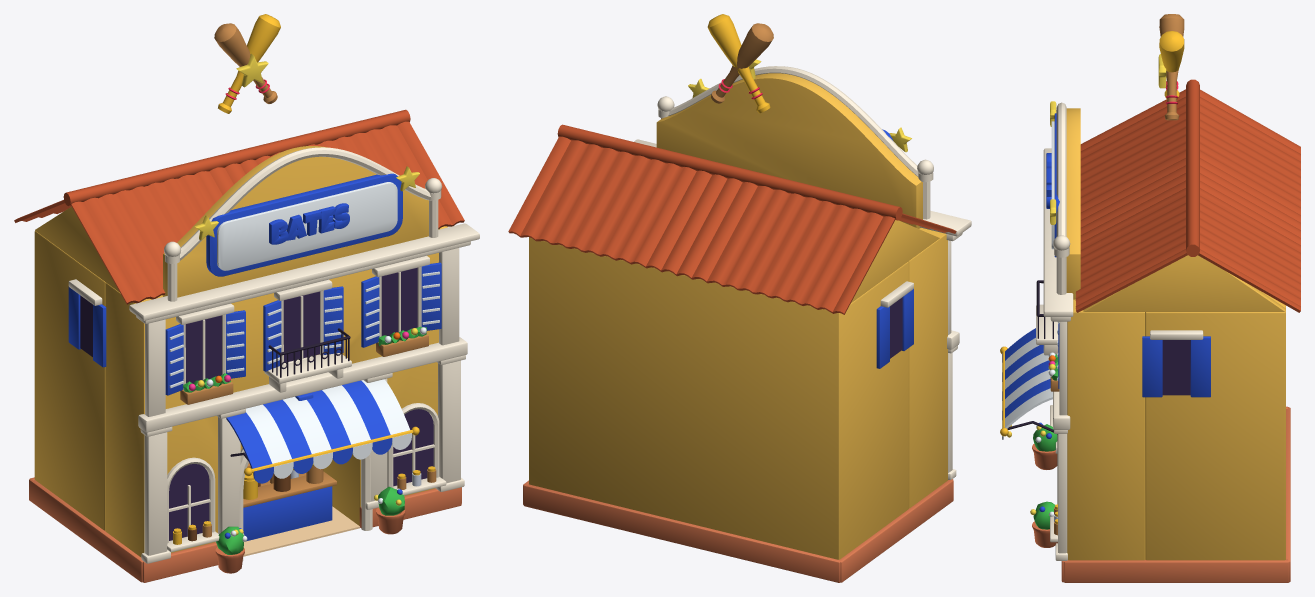
Rendered from lobby_shop_bates.obj.
The picture shows the model from 3 angles, left to right: view 1: azimuth 30°, elevation 25°; view 2: azimuth 150°, elevation 25°; view 3: azimuth 270°, elevation 25°; orthographic projection.
Parts seen in each view (by area): view 1: lobby_shop_bates, lobby_shop_bates_Sign; view 2: lobby_shop_bates; view 3: lobby_shop_bates, lobby_shop_bates_Sign.
Part boxes in pixels (x1,y1,x2,y2): lobby_shop_bates: [14, 14, 479, 582]; lobby_shop_bates_Sign: [195, 166, 419, 276]; lobby_shop_bates: [508, 14, 971, 582]; lobby_shop_bates: [1000, 14, 1300, 582]; lobby_shop_bates_Sign: [1046, 101, 1059, 257].
Size of the model in its own units: 25 by 34.05 by 19.25.
Materials: 2 (2 with a texture image).
